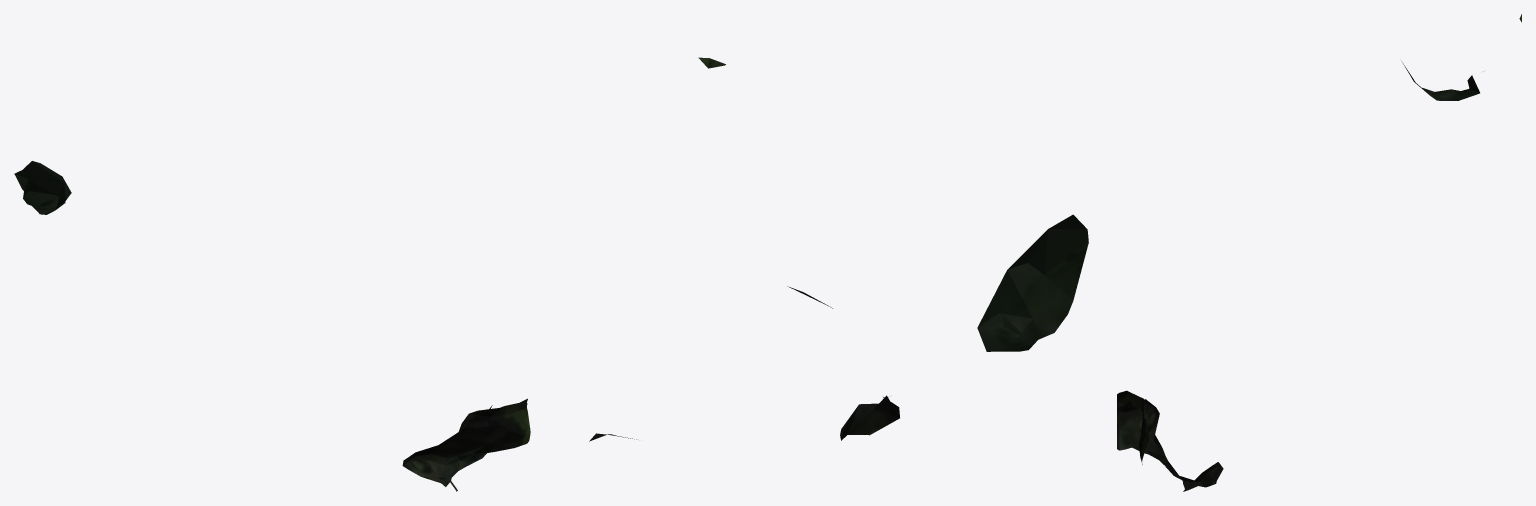
3 views of the same model, side by side, from view 1: azimuth 30°, elevation 25°; view 2: azimuth 150°, elevation 25°; view 3: azimuth 270°, elevation 25° (orthographic). The views are drawn at different scales.
Size of the model in its own units: 0.8374 by 0.8374 by 0.8373.
1 material, 1 textured.
